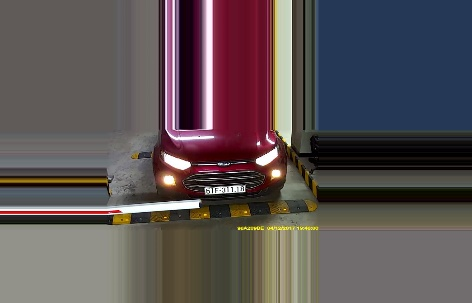plate: (202, 181, 247, 193)
